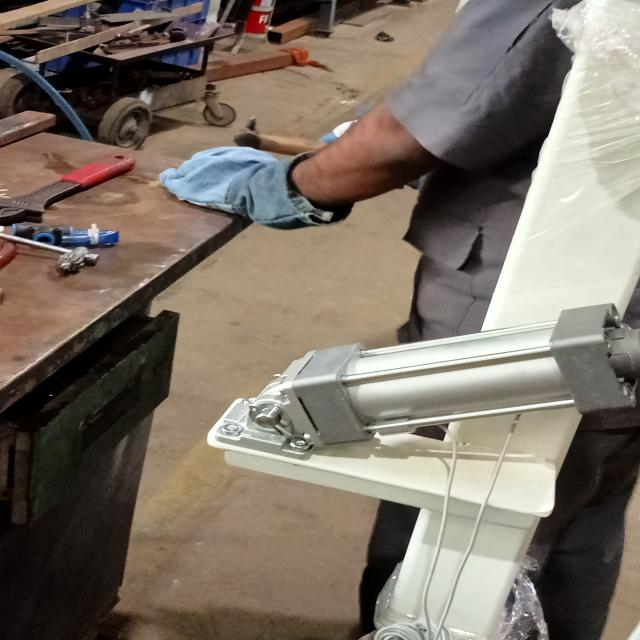Gloves-Detection: (178, 140, 320, 230)
